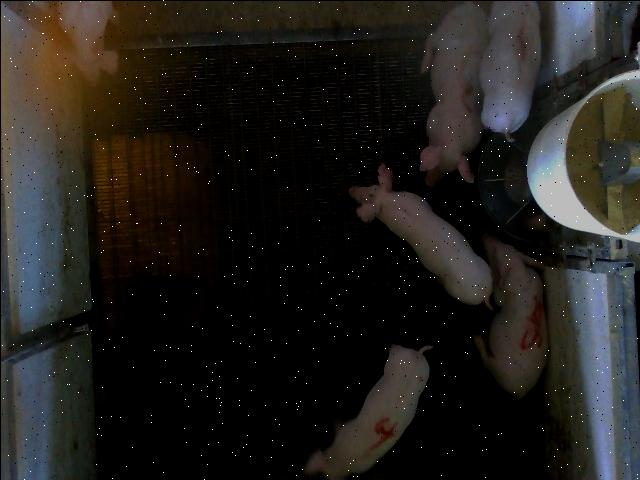pig-1: (478, 1, 539, 139)
pig-3: (419, 2, 486, 185)
pig-4: (302, 344, 431, 480)
pig-5: (471, 233, 546, 400)
